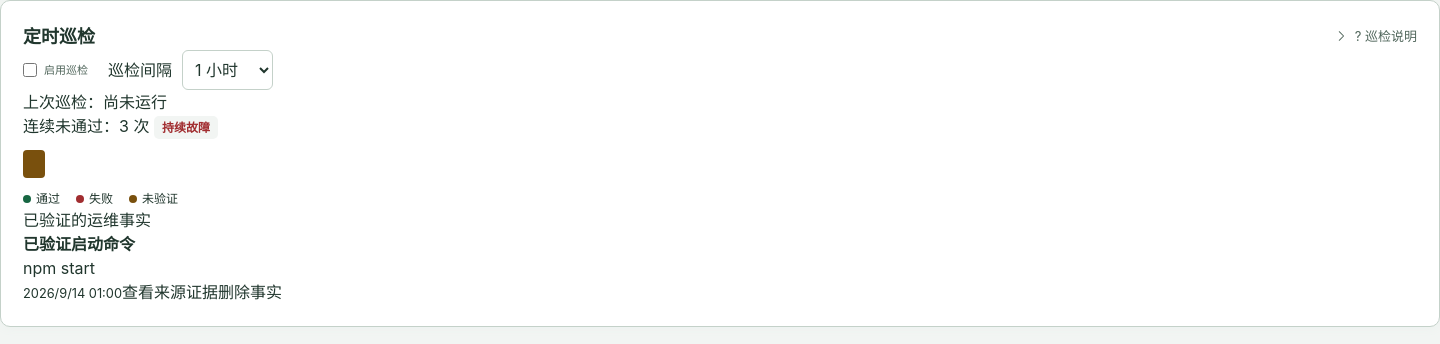
Test: shows inspection trend and removes a sourced fact using its revision
This screenshot has width=1440, height=344.
Check: the text "持续故障" is shown, box x1=154 y1=116 x2=218 y2=139
Check: the text "npm start" is shown, box x1=23 y1=258 x2=95 y2=278
Click the button "删除事实". click: (250, 292)
box: x1=218 y1=280 x2=282 y2=304
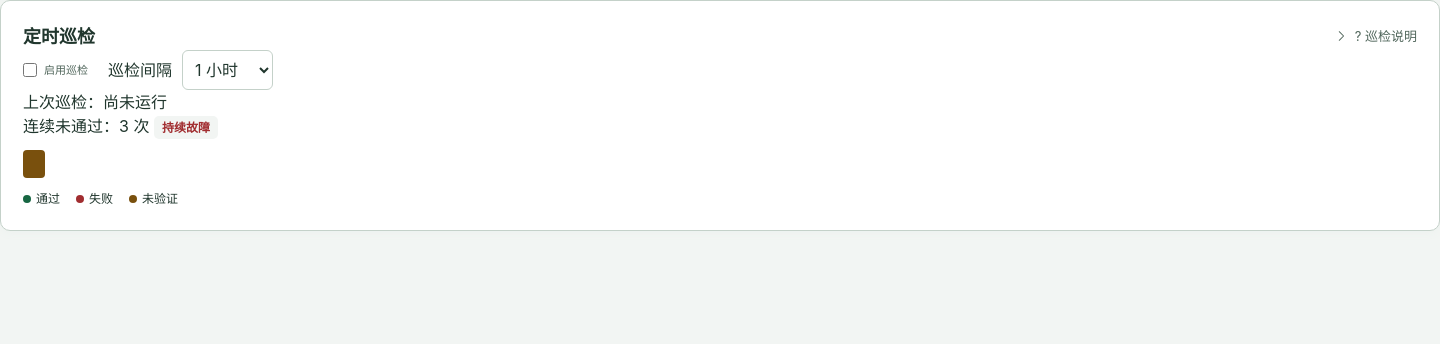
Check: the text "npm start" is gone
